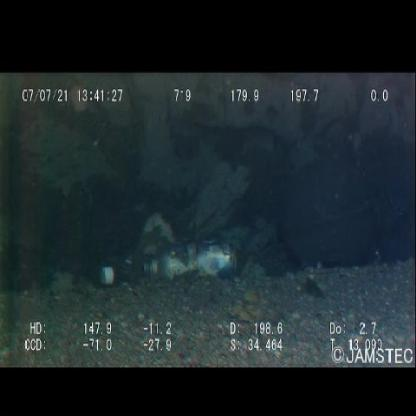Rác: (96, 251, 140, 296)
